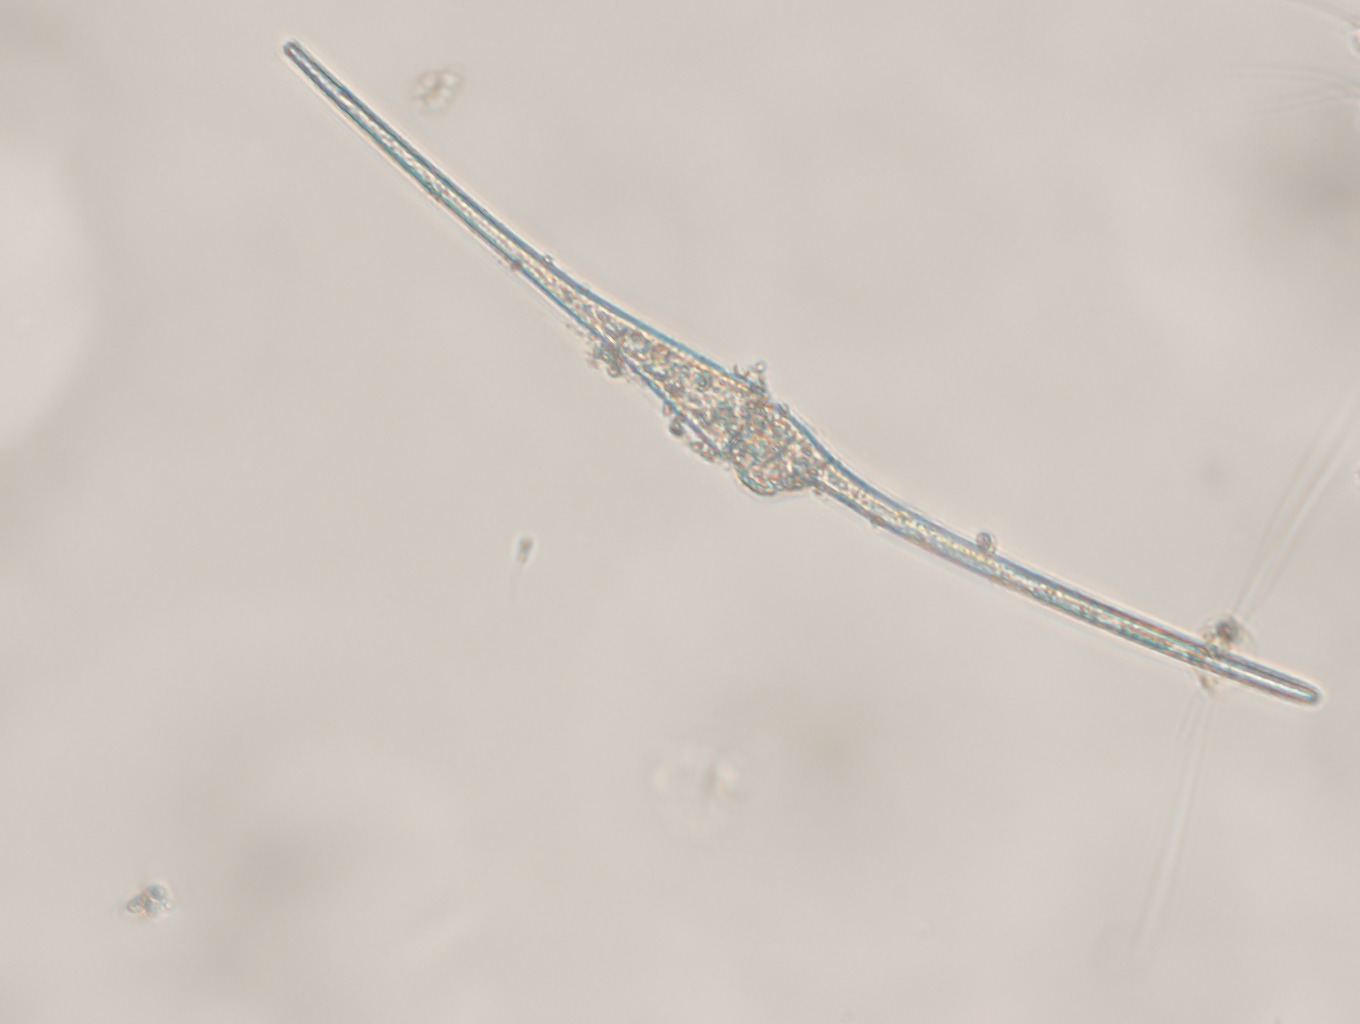ceratium fusus: (276, 35, 1325, 719)
